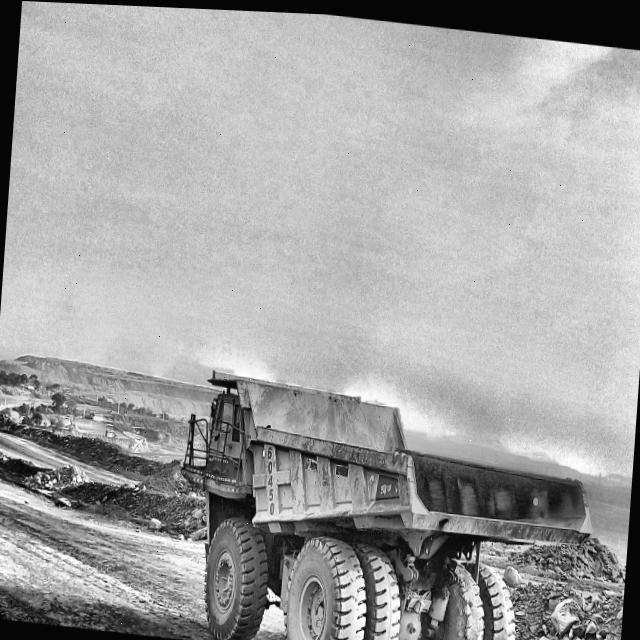dump_truck: (182, 370, 589, 640)
